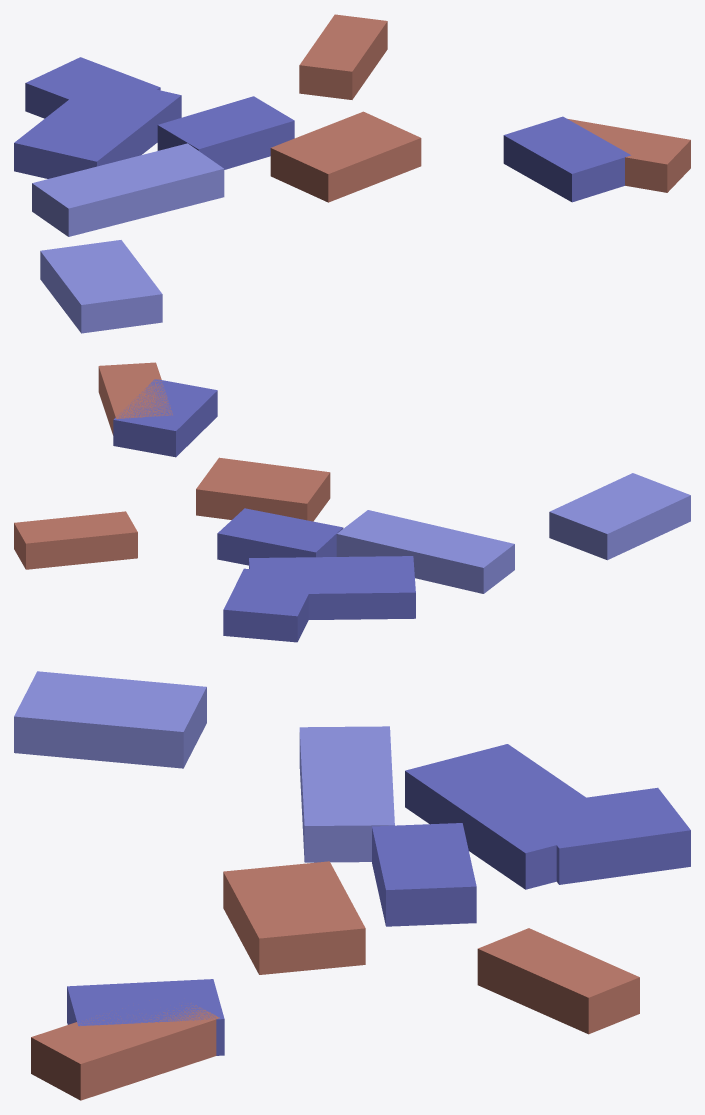
File: Pebbles.fbx
3 views of the same model, one above another, from view 1: azimuth 30°, elevation 25°; view 2: azimuth 150°, elevation 25°; view 3: azimuth 270°, elevation 25° (orthographic). The views are drawn at different scales.
Parts seen in each view (by area): view 1: RockBlueDark.002, RockBlue.003, Wood.005; view 2: RockBlueDark.002, RockBlue.003, Wood.005; view 3: RockBlueDark.002, Wood.005, RockBlue.003.
Part boxes in pixels (x1=…): RockBlueDark.002: x1=14, y1=57, x2=630, y2=202; RockBlue.003: x1=32, y1=143, x2=224, y2=333; Wood.005: x1=270, y1=14, x2=690, y2=202; RockBlueDark.002: x1=113, y1=379, x2=415, y2=642; RockBlue.003: x1=336, y1=473, x2=690, y2=593; Wood.005: x1=14, y1=362, x2=330, y2=569; RockBlueDark.002: x1=67, y1=744, x2=690, y2=1055; Wood.005: x1=31, y1=861, x2=639, y2=1100; RockBlue.003: x1=14, y1=671, x2=394, y2=862.
Size of the model in its own units: 5.53 by 0.24 by 4.03.
